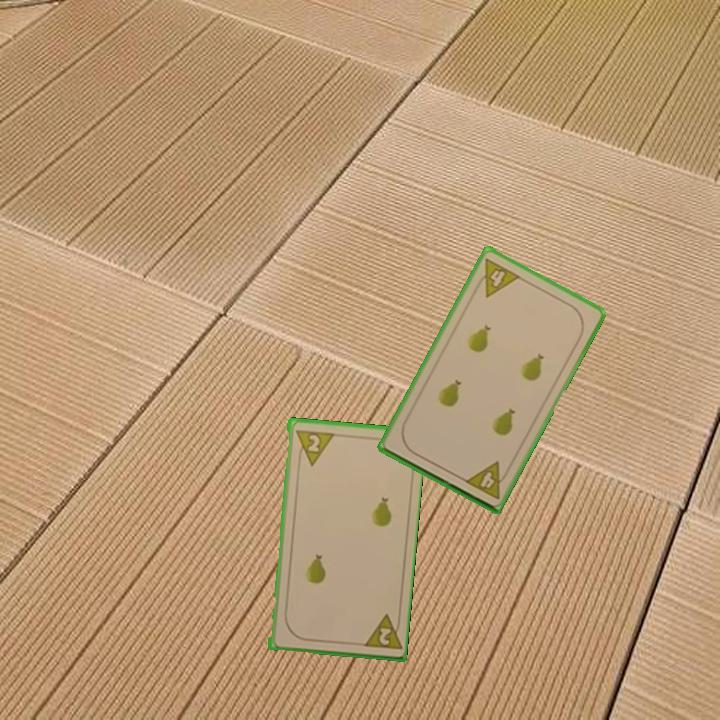2p: (358, 610, 403, 652), (291, 426, 335, 468)
4p: (470, 255, 523, 300), (461, 458, 513, 502)
